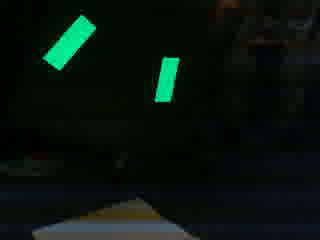target: (37, 15, 193, 104)
